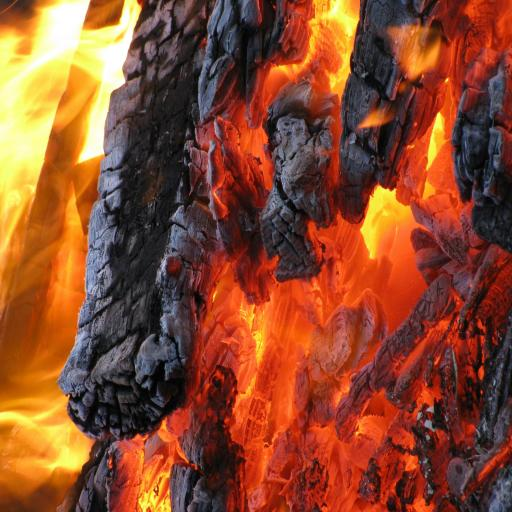fire: (3, 5, 512, 512)
